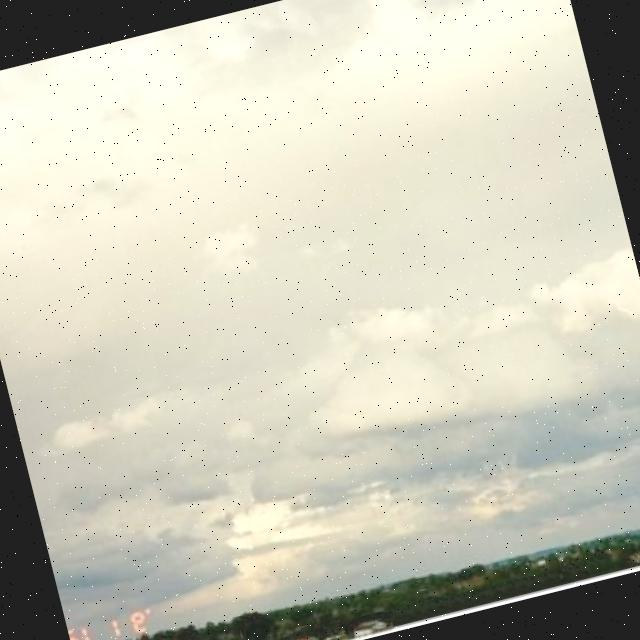Ns: (1, 1, 640, 579)
